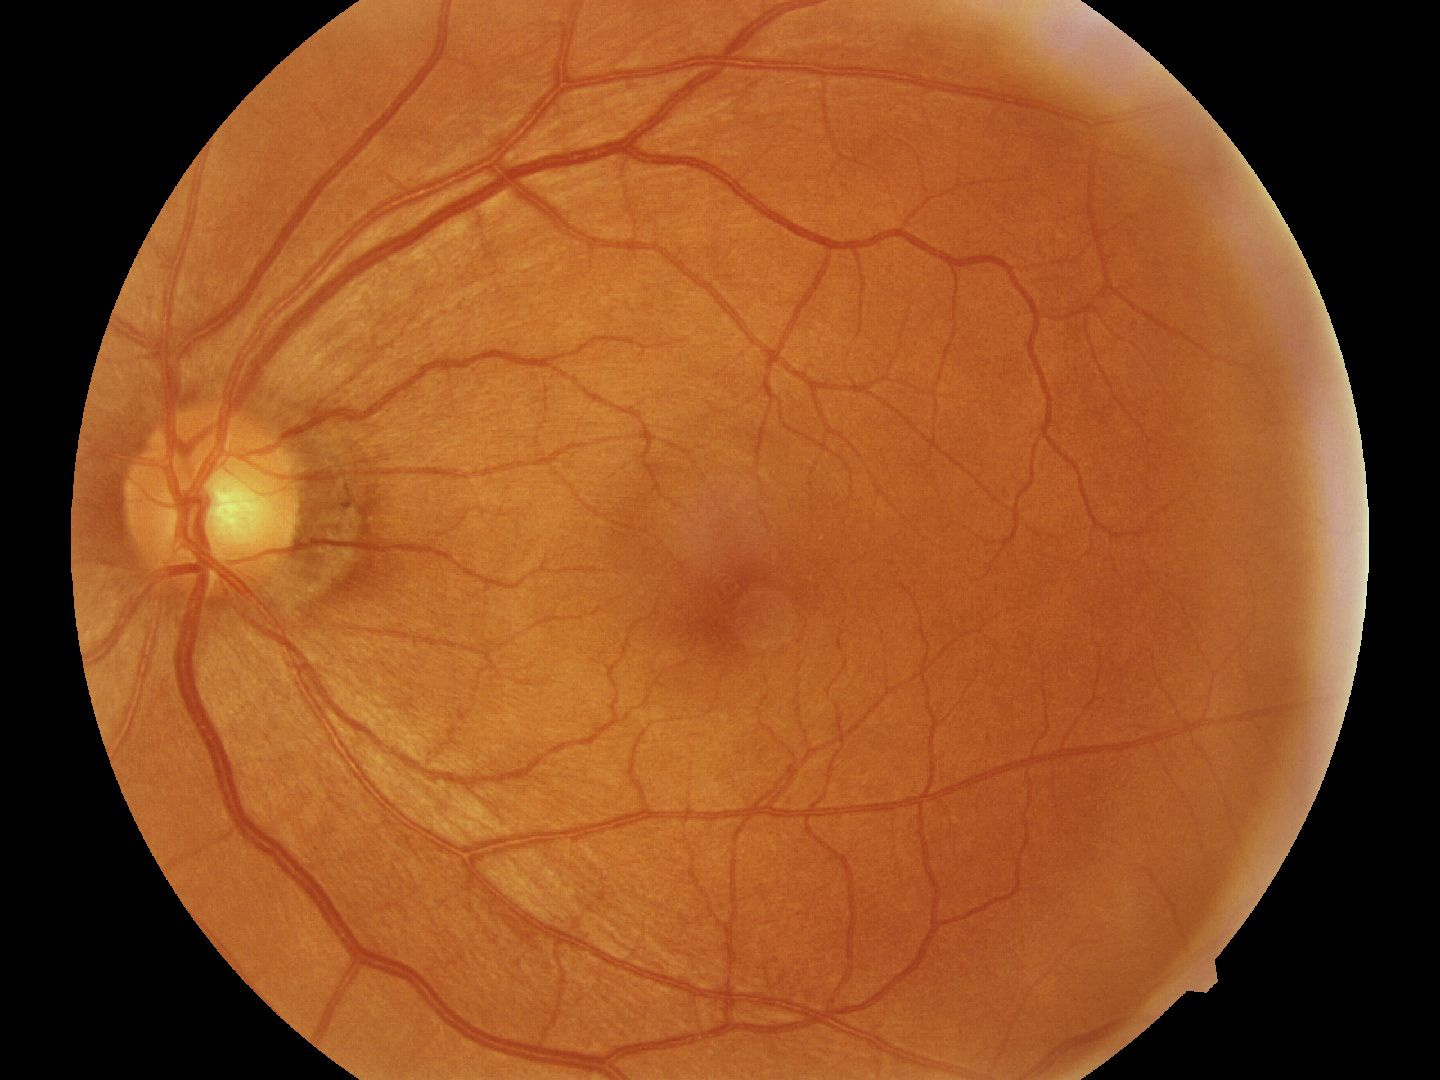Arterioles: (846, 216, 1176, 492)
Hemorrhages: (659, 545, 801, 699)
Optic-Disc: (120, 399, 293, 616)
Venules: (200, 706, 467, 944), (307, 133, 701, 265)
